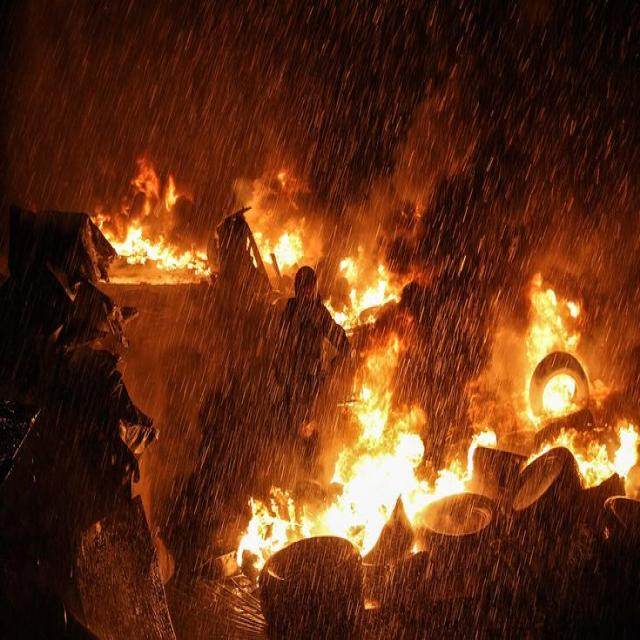fire: (323, 432, 425, 557), (237, 495, 296, 567), (357, 339, 399, 440), (527, 287, 580, 367), (111, 224, 190, 270), (574, 440, 614, 489), (424, 466, 465, 503), (614, 425, 638, 480), (544, 373, 576, 414)
